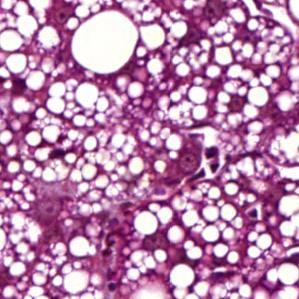steatosis: (70, 12, 140, 74)
